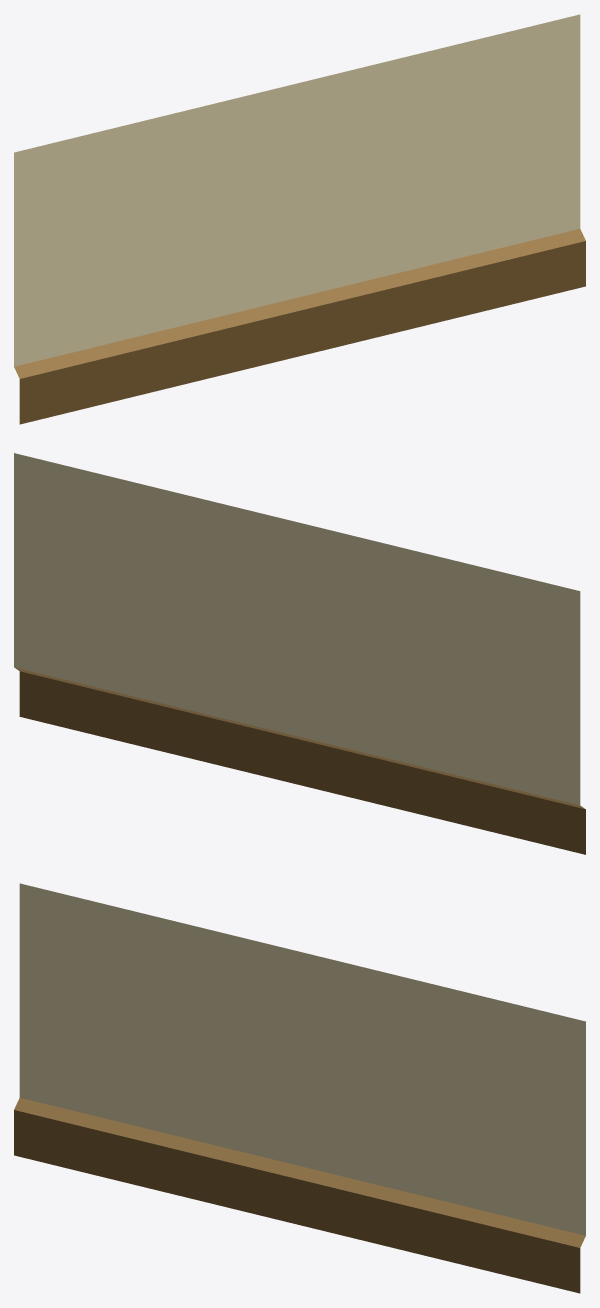
The model's file is Itr_Wall_Base_01(for_window).FBX.
3 renders of one model, top to bottom at view 1: azimuth 30°, elevation 25°; view 2: azimuth 150°, elevation 25°; view 3: azimuth 330°, elevation 25°, orthographic.
Parts seen in each view (by area): view 1: Itr_Wall_Base_01(for_window); view 2: Itr_Wall_Base_01(for_window); view 3: Itr_Wall_Base_01(for_window).
Part boxes in pixels (x1,y1,x2,y2): Itr_Wall_Base_01(for_window): [14, 14, 585, 424]; Itr_Wall_Base_01(for_window): [14, 453, 585, 854]; Itr_Wall_Base_01(for_window): [14, 883, 585, 1293].
Size of the model in its own units: 65.28 by 29.51 by 1.14.
